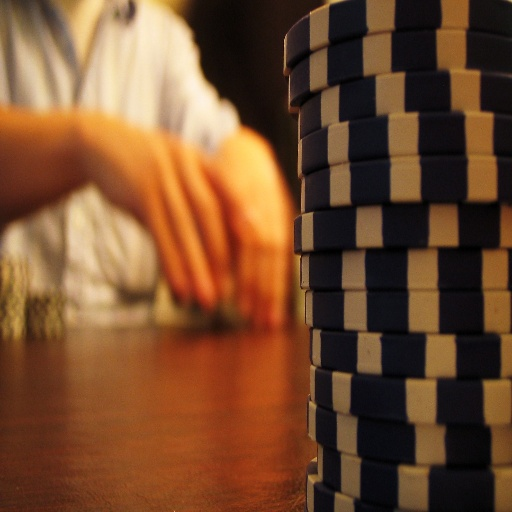hand: (86, 8, 419, 423), (212, 122, 298, 333)
